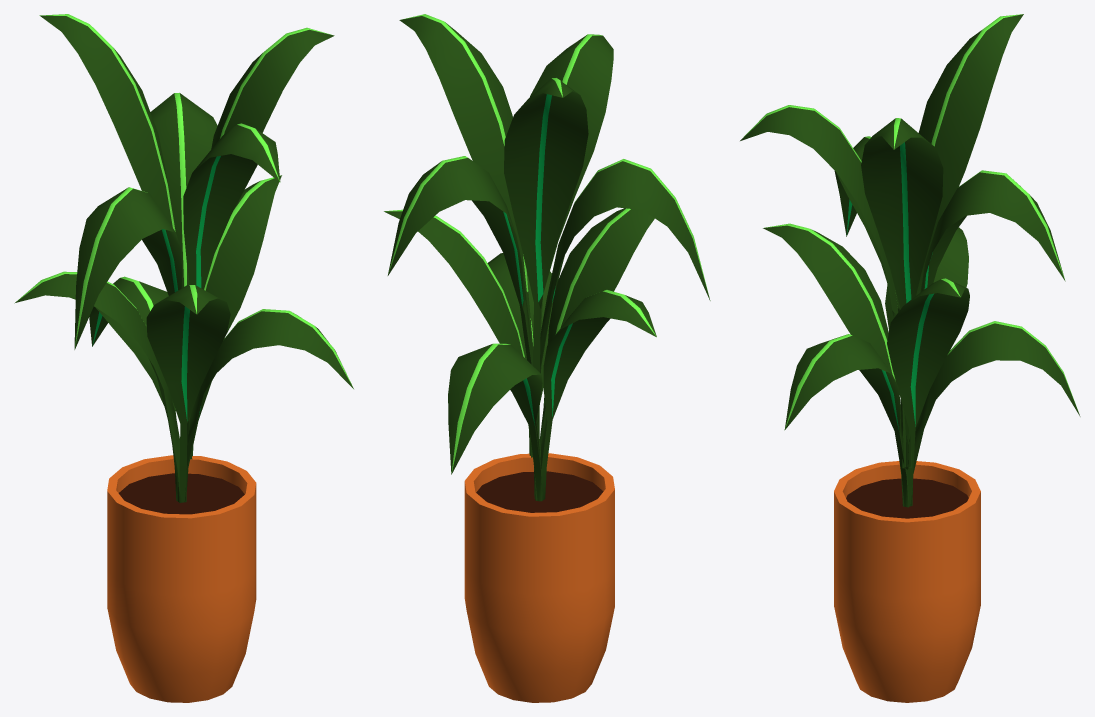
The model's file is Plant_04.fbx.
3 renders of one model, left to right at view 1: azimuth 30°, elevation 25°; view 2: azimuth 150°, elevation 25°; view 3: azimuth 270°, elevation 25°, orthographic. The views are drawn at different scales.
Parts seen in each view (by area): view 1: Plant03; view 2: Plant03; view 3: Plant03.
Part boxes in pixels (x1=…): Plant03: x1=14, y1=14, x2=353, y2=702; Plant03: x1=384, y1=14, x2=710, y2=702; Plant03: x1=740, y1=14, x2=1080, y2=702.
Bounding box in the file's own units: 61.42 × 132 × 64.46.
